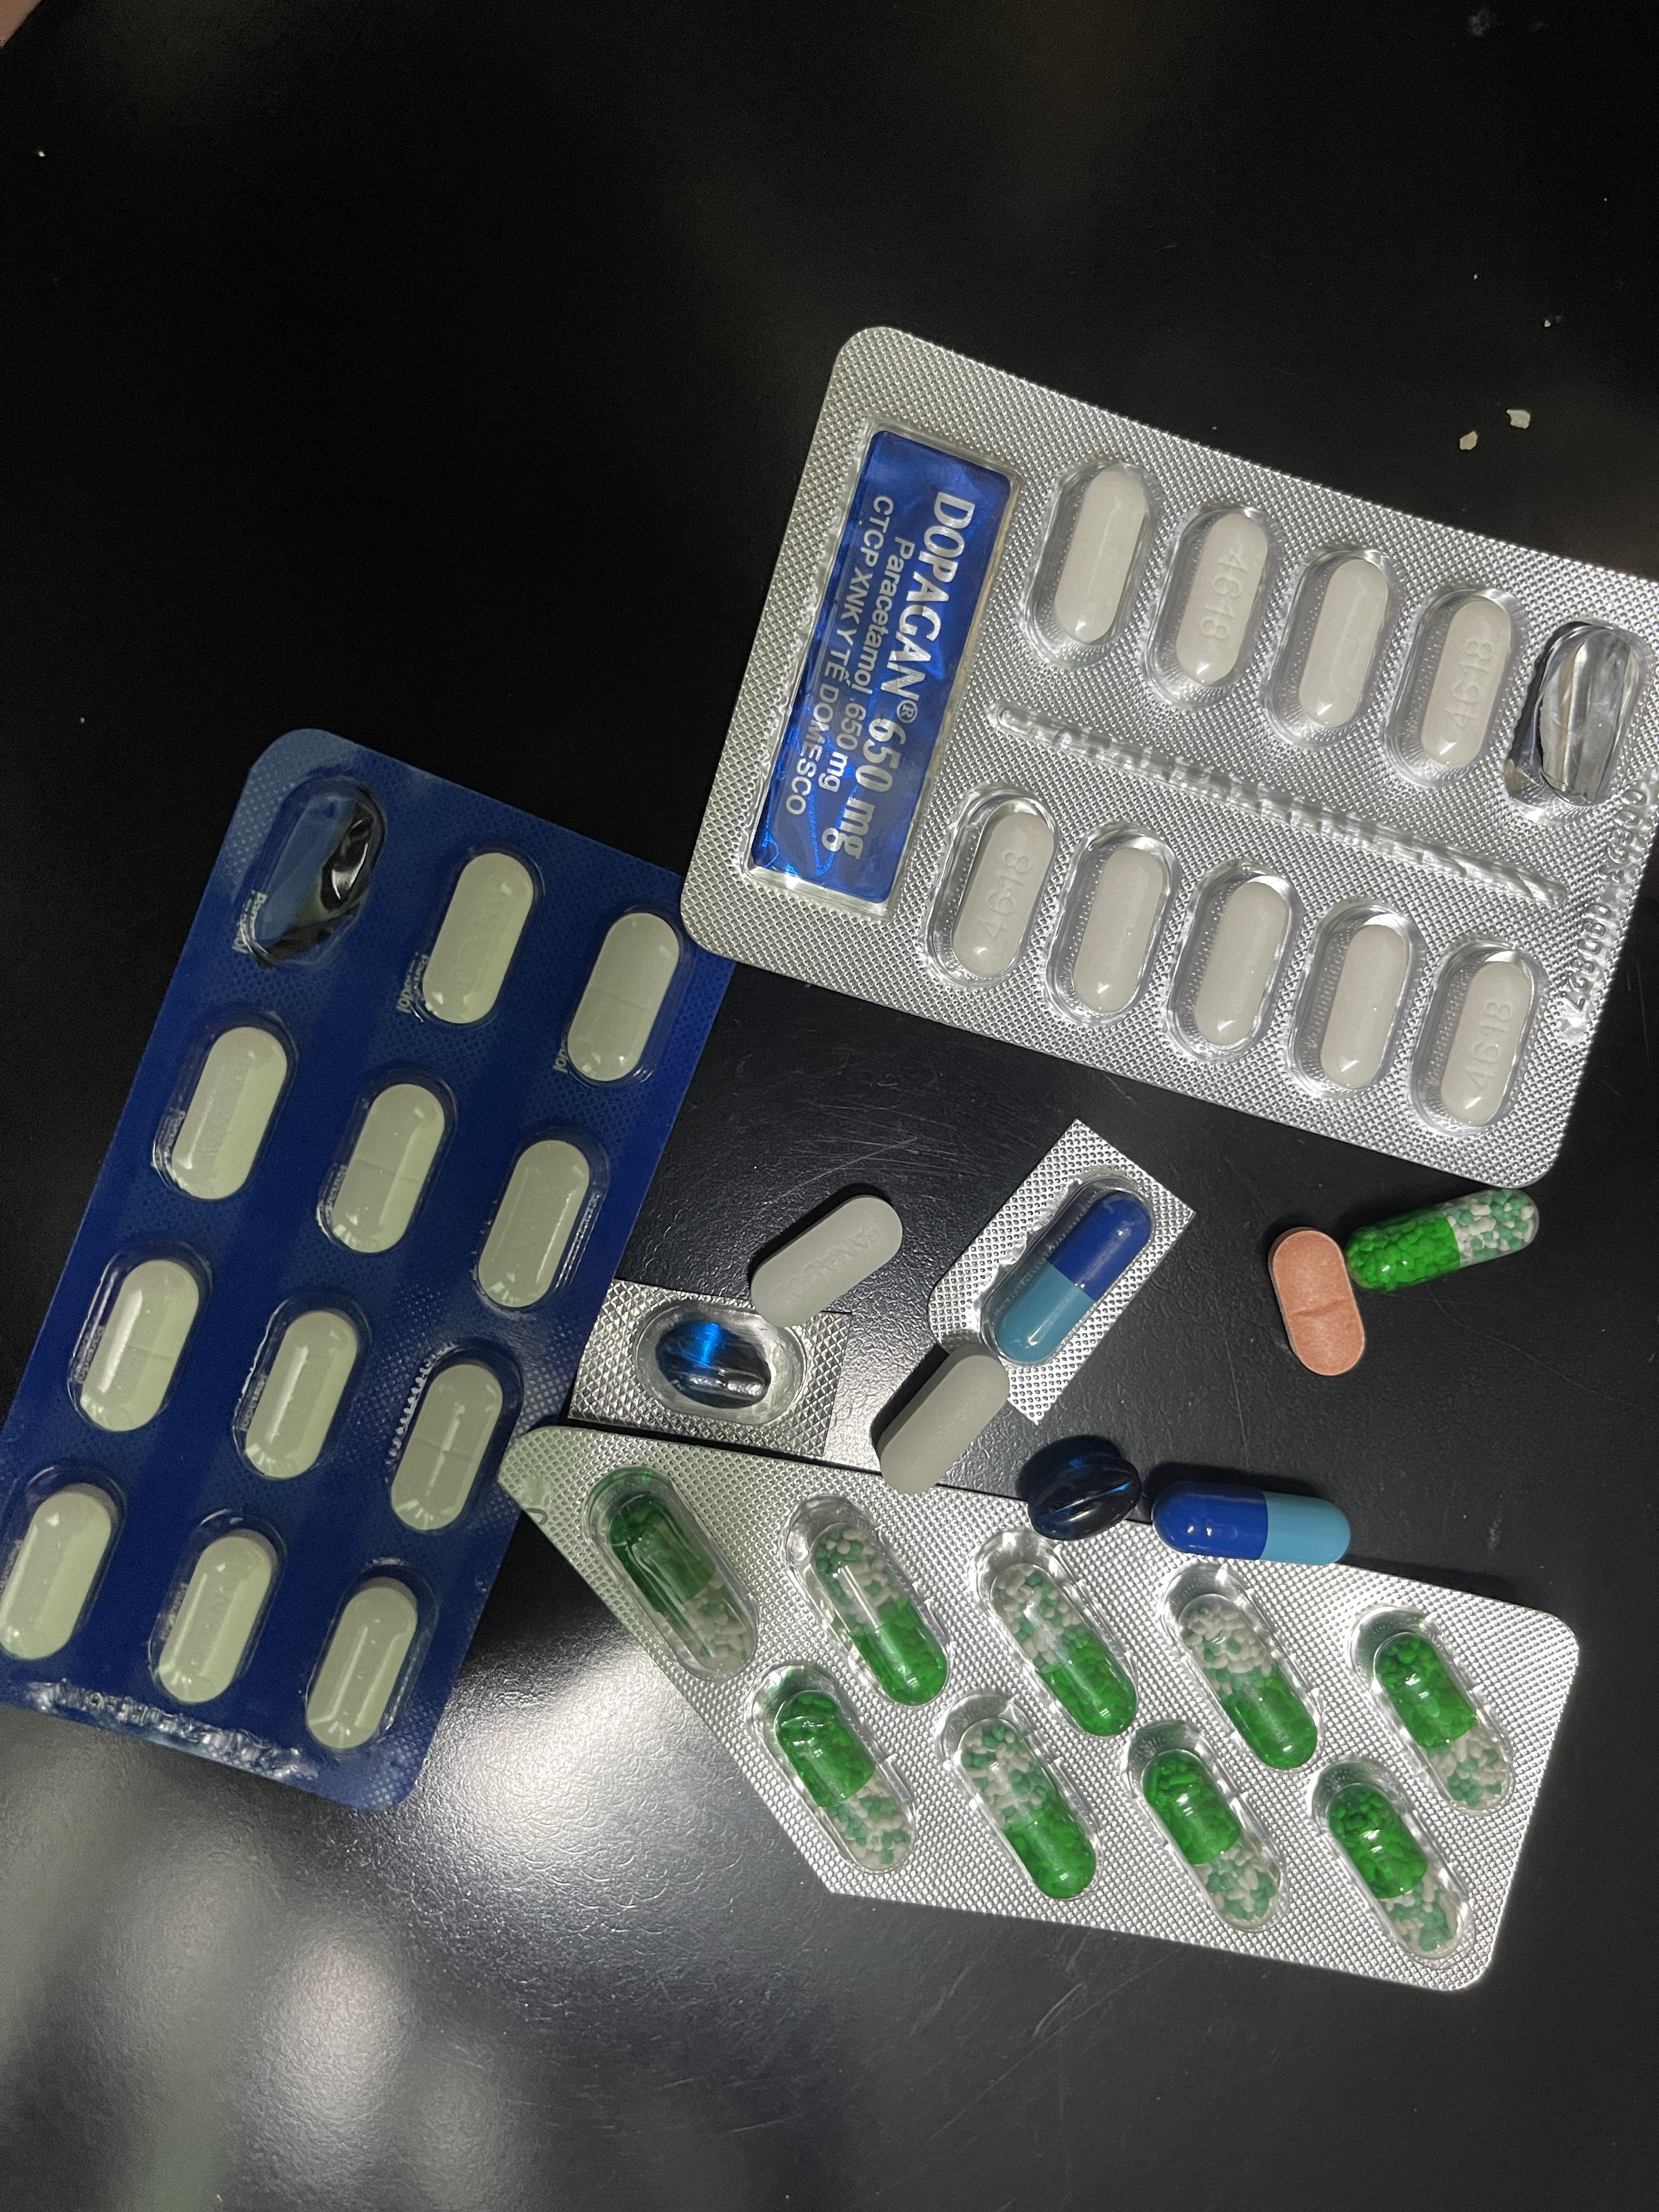Lincomyxin_500mg: (1017, 1431, 1144, 1537), (654, 1318, 773, 1408)
Loratadine_10mg: (1268, 1229, 1369, 1378)
Paracetamol_350mg: (157, 1012, 298, 1207), (319, 1070, 458, 1261), (473, 1127, 608, 1316), (74, 1250, 208, 1440), (386, 1350, 515, 1536), (239, 1304, 368, 1485), (0, 1478, 124, 1665), (415, 850, 539, 1029), (155, 1532, 280, 1706), (562, 910, 684, 1088), (752, 1190, 898, 1335), (304, 1581, 422, 1750)
Paracetamol_500mg: (1383, 581, 1527, 788), (1160, 861, 1301, 1065), (1021, 456, 1156, 665), (1142, 503, 1278, 711), (1262, 544, 1399, 749), (1284, 894, 1421, 1097), (1043, 827, 1176, 1029), (1408, 935, 1547, 1128), (923, 787, 1052, 986), (874, 1338, 1011, 1496)
Paracetamol_650mg: (1124, 1714, 1280, 1929), (982, 1525, 1143, 1722), (758, 1664, 909, 1870), (795, 1500, 946, 1697), (956, 1710, 1097, 1898), (1367, 1626, 1510, 1805), (1180, 1593, 1319, 1766), (1324, 1771, 1455, 1953), (610, 1491, 745, 1665), (1341, 1187, 1542, 1290)
pill: (977, 1176, 1153, 1362), (1153, 1477, 1351, 1564)
